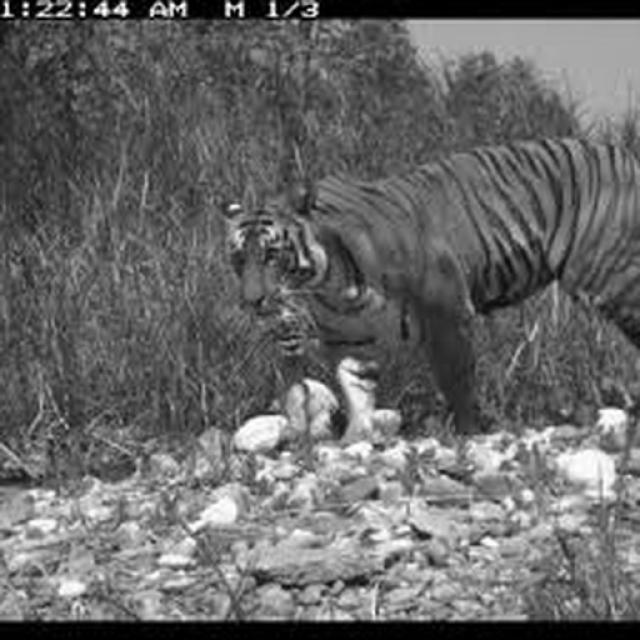Tiger: (219, 132, 639, 442)
